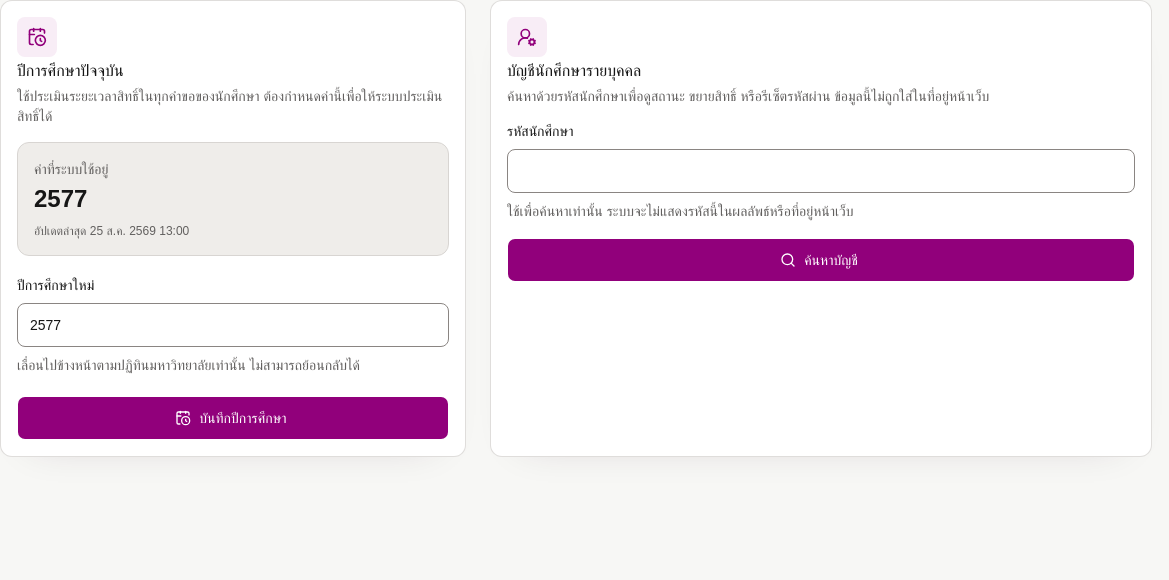
Test: Admin Account controls panel › keeps Student ID in the lookup form and renders safe individual controls
This screenshot has width=1169, height=580.
Type "69000001" into the field labelled "รหัสนักศึกษา" at {"x": 821, "y": 171}, box top-left (507, 149), bottom-right (1135, 193)
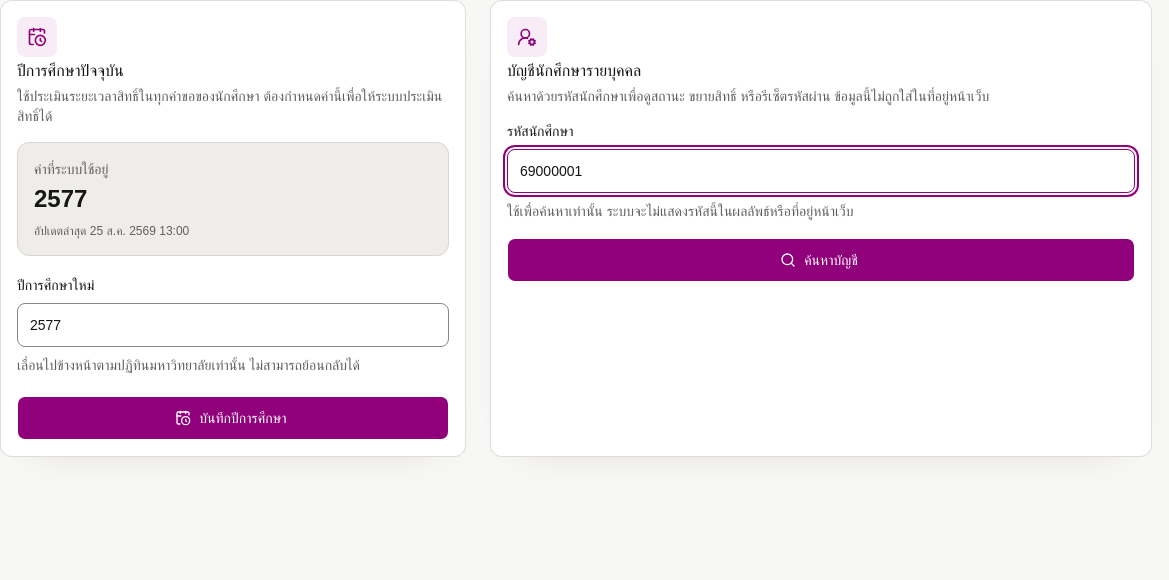
Click the button "ค้นหาบัญชี" at {"x": 821, "y": 260}, box top-left (507, 238), bottom-right (1135, 282)
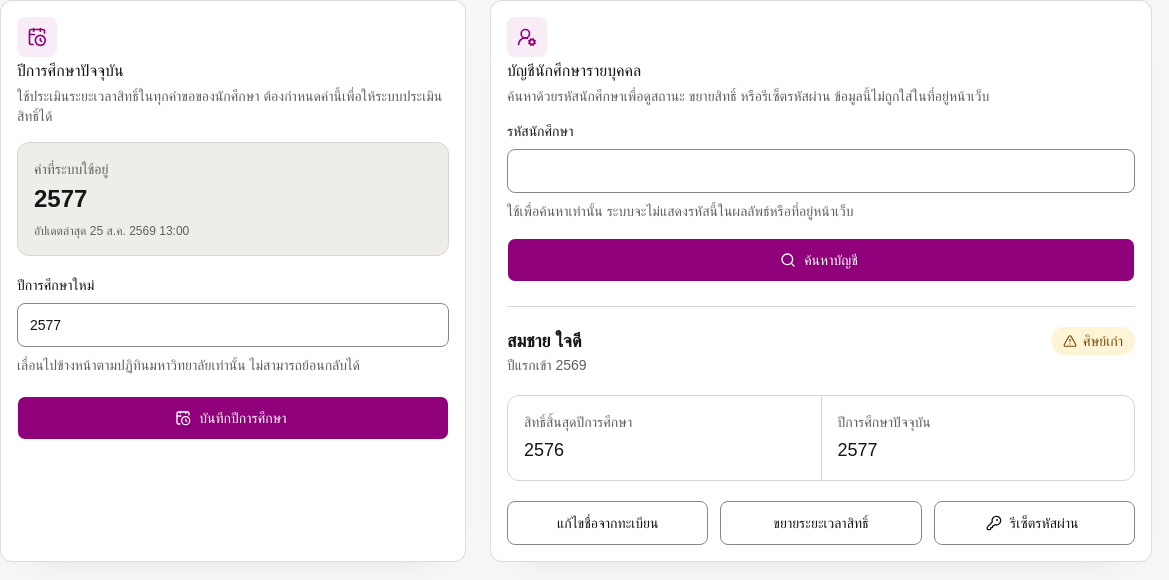
Now the text "สมชาย ใจดี" is shown, box top-left (507, 327), bottom-right (587, 355)
Now the text "ศิษย์เก่า" is shown, box top-left (1051, 327), bottom-right (1135, 355)
Now the button "แก้ไขชื่อจากทะเบียน" is shown, box top-left (507, 501), bottom-right (708, 545)
